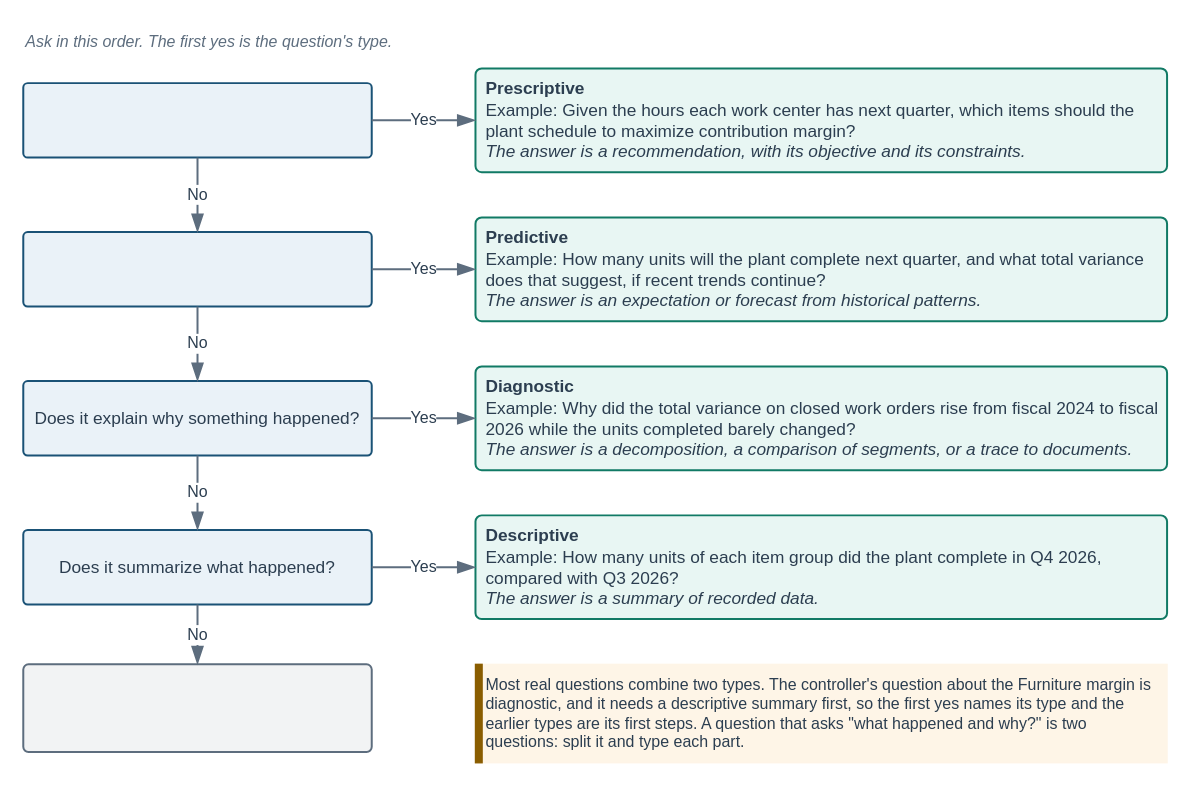
Some shapes in this 1192 by 787 pixel diagram are drawn without their labels. Each missing label, with the centre of its shape:
"Does it project what might happen in a later period?" belongs at [197,268].
"Does the answer recommend what to do, under an objective and constraints?" belongs at [197,120].
"Not yet one of the four. Reword it: what would the manager do with the answer?" belongs at [197,708].
